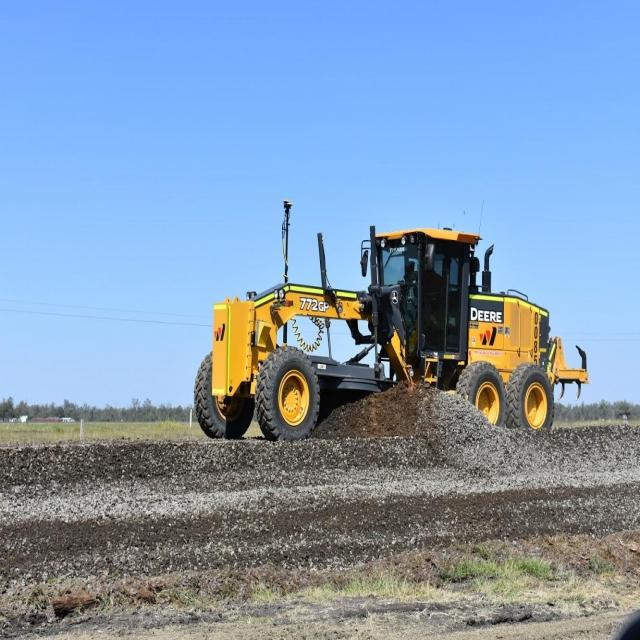Grader: (185, 198, 591, 441)
